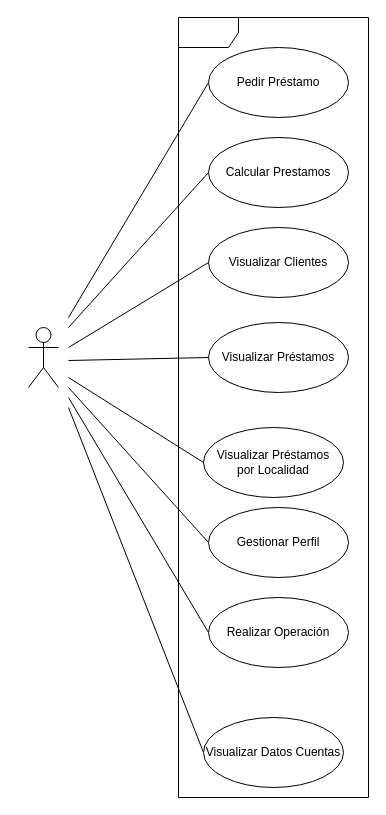
Image size: 386x815. Some labels were removed from this diagram. Each missing label, with the box of its shape:
Banquero: (28, 326, 58, 388)
Software Cliente: (178, 16, 368, 798)
